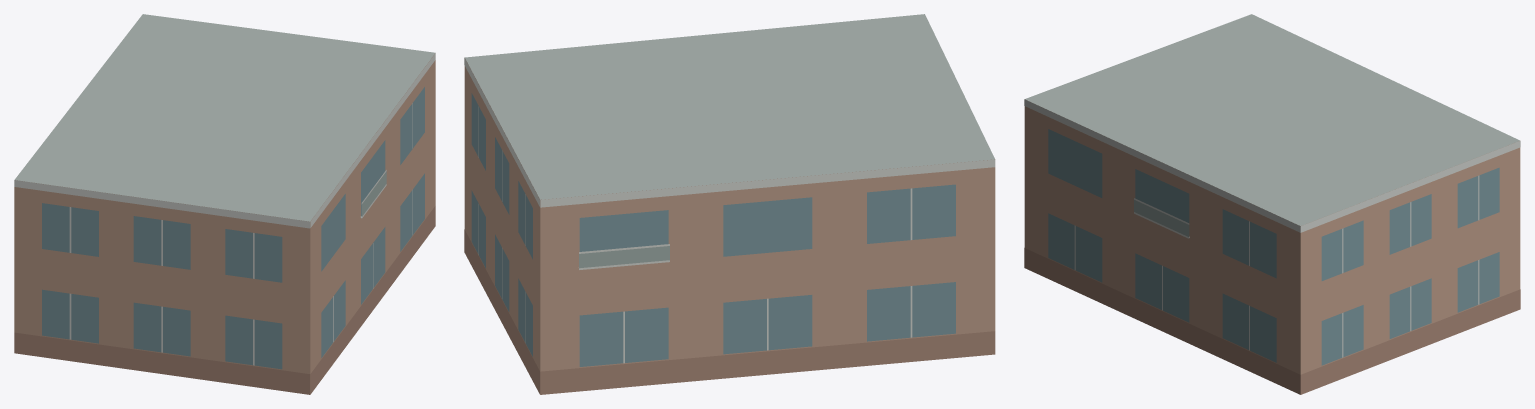
The model's file is survey-upis-32546319.glb.
3 renders of one model, left to right at view 1: azimuth 30°, elevation 25°; view 2: azimuth 150°, elevation 25°; view 3: azimuth 270°, elevation 25°, orthographic. The views are drawn at different scales.
Parts seen in each view (by area): view 1: survey-upis-32546319.tmp; view 2: survey-upis-32546319.tmp; view 3: survey-upis-32546319.tmp.
Part boxes in pixels (x1,y1,x2,y2): survey-upis-32546319.tmp: (14, 14, 435, 394); survey-upis-32546319.tmp: (464, 14, 995, 394); survey-upis-32546319.tmp: (1024, 14, 1520, 394).
Bounding box in the file's own units: 16.45 × 6.1 × 16.25.
